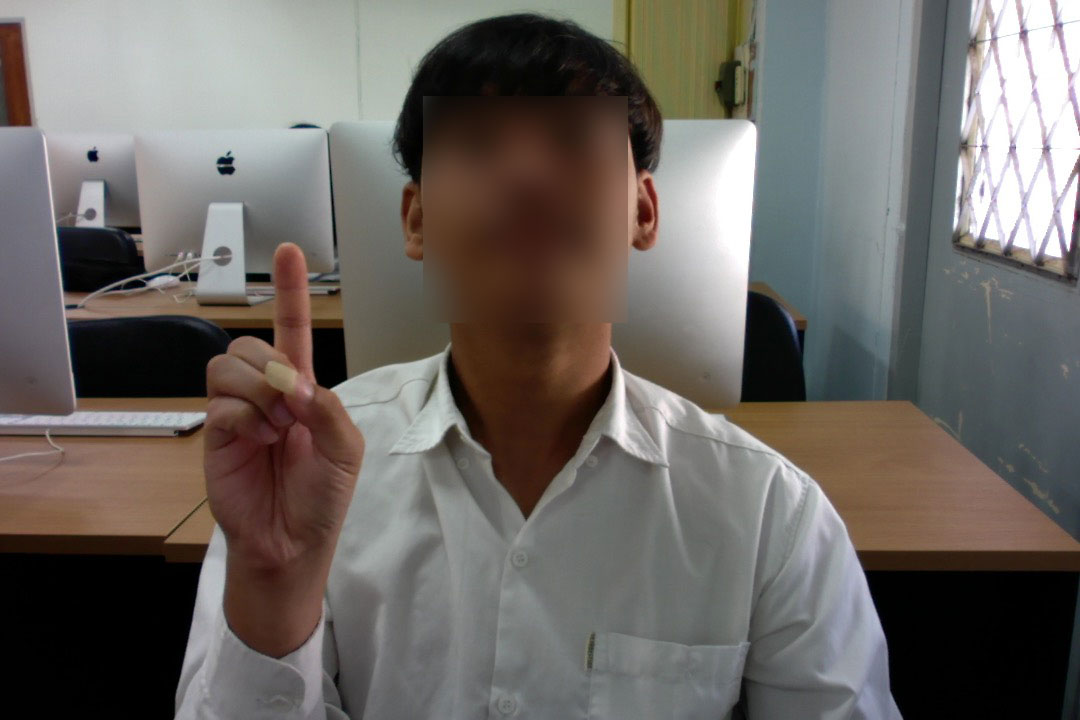dor: (195, 237, 371, 578)
